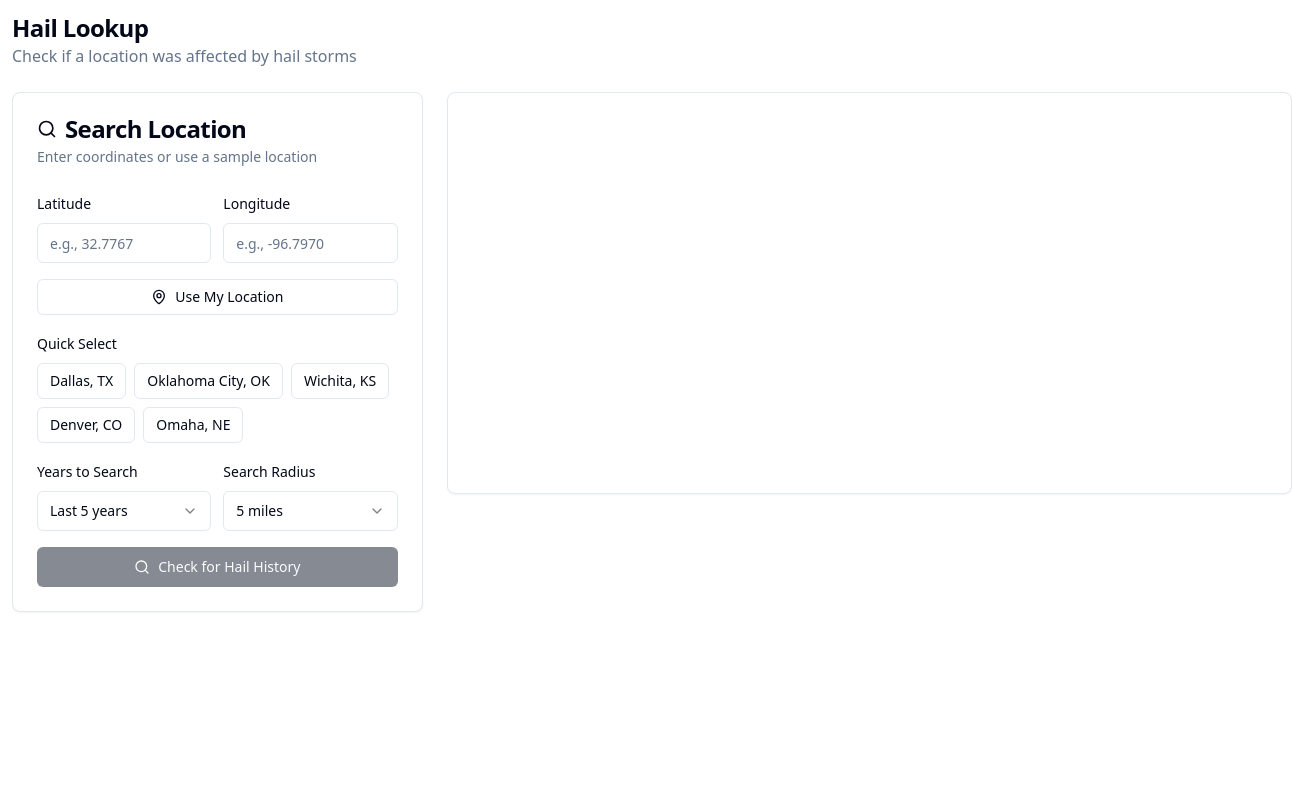
HailLookupPage › Event List › displays event cards after search
The width and height of the screenshot is (1292, 810).
Type "32.7767" into the field with placeholder "e.g., 32.7767" at (124, 243), box [37,223,211,263]
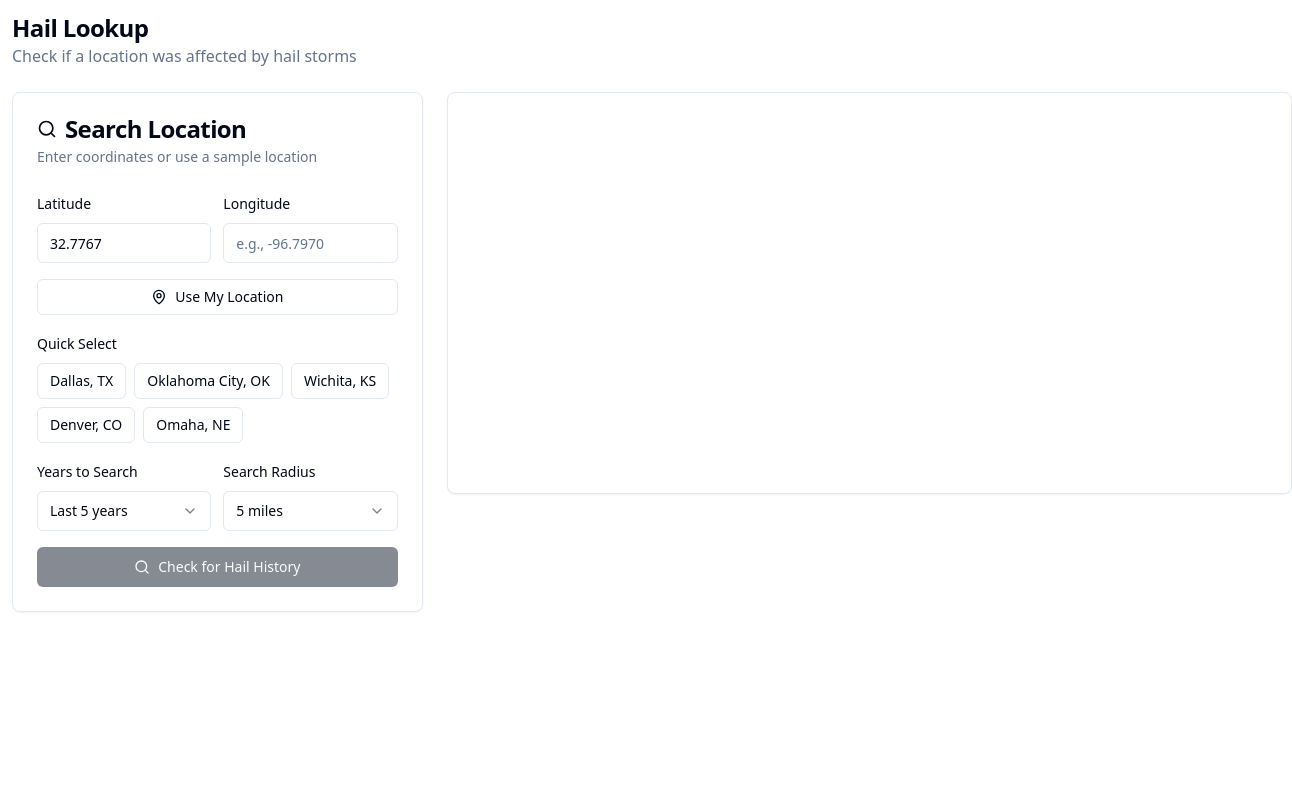
Type "-96.7970" into the field with placeholder "e.g., -96.7970" at (310, 243), box [223,223,398,263]
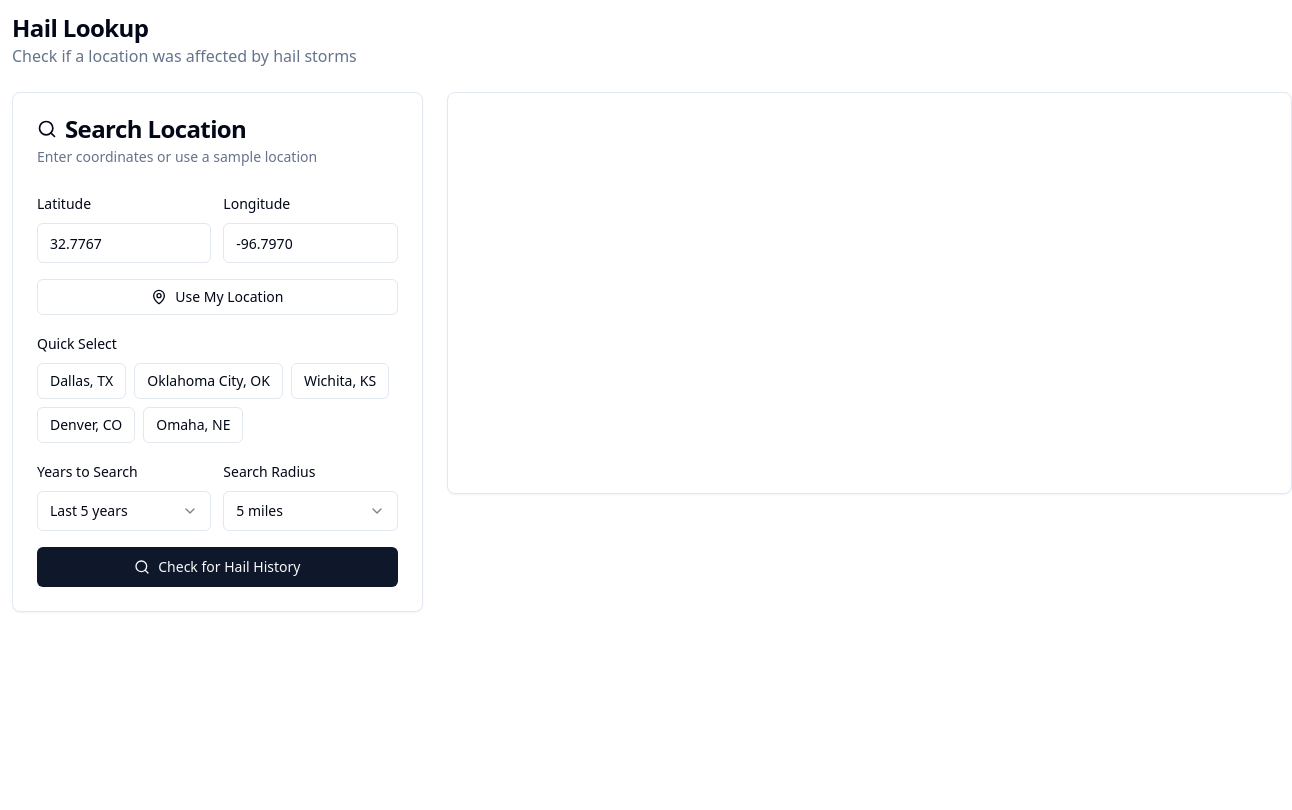
Click the button "Check for Hail History" at (217, 567), box [37,547,398,587]
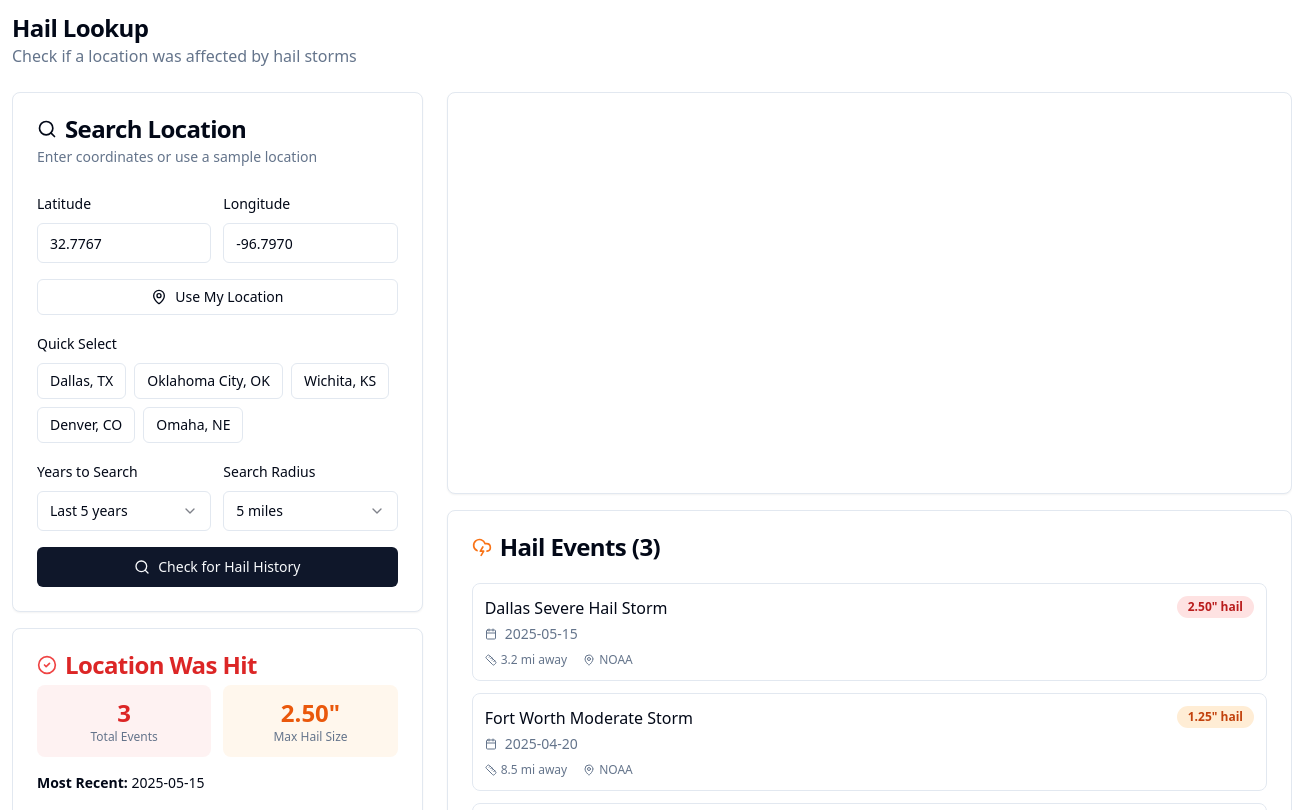
Expected: the heading "Hail Events (3)" is shown, [472,530,660,563]
